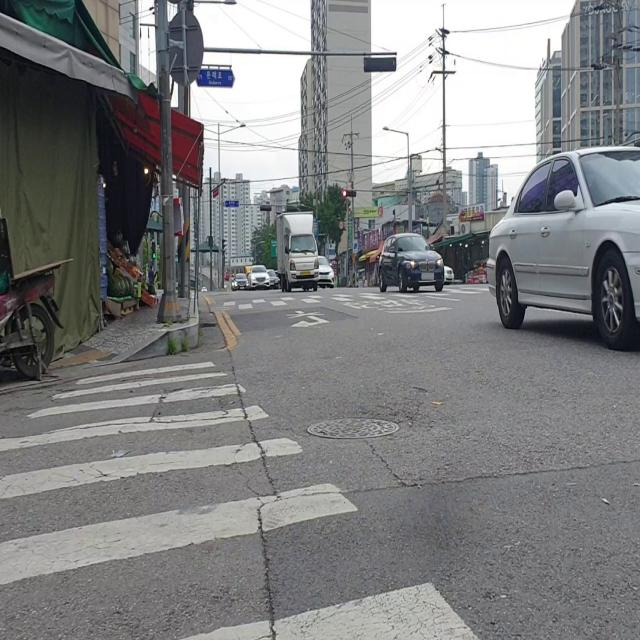횡단보도: (0, 357, 482, 640), (215, 285, 487, 308)
